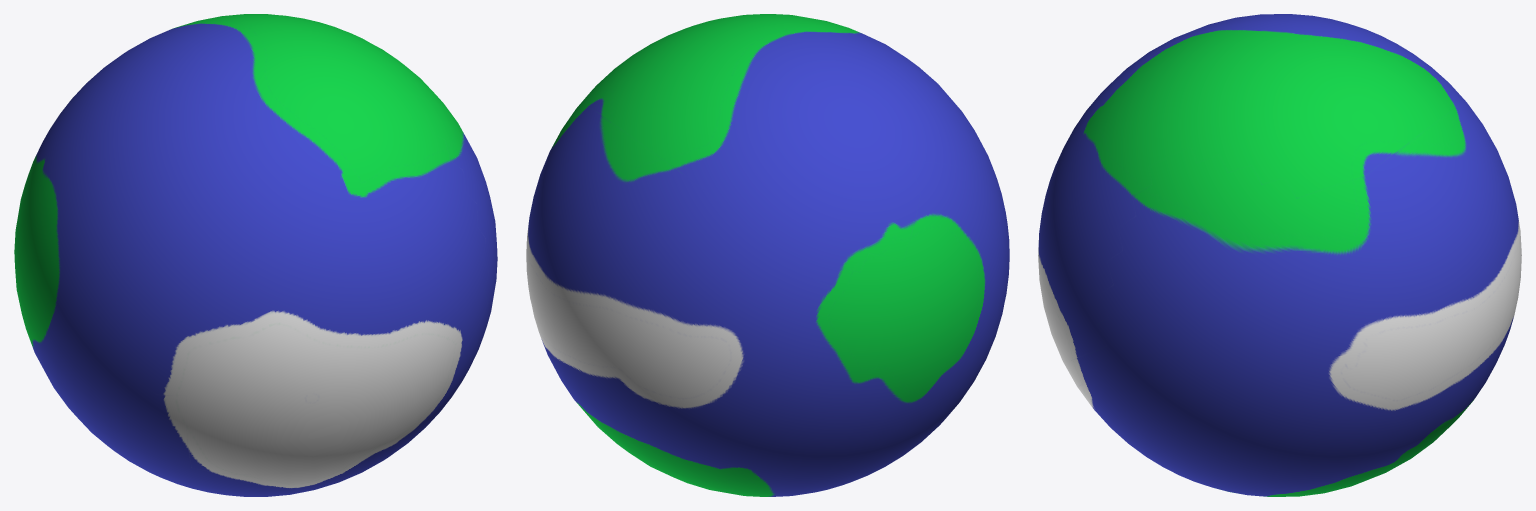
File: dog.glb
The picture shows the model from 3 angles, left to right: view 1: azimuth 30°, elevation 25°; view 2: azimuth 150°, elevation 25°; view 3: azimuth 270°, elevation 25°; orthographic projection.
Parts seen in each view (by area): view 1: mesh_id47; view 2: mesh_id47; view 3: mesh_id47.
Boxes of the visible parts, x1,y1,x2,y2 form: mesh_id47: (14, 14, 497, 496); mesh_id47: (526, 14, 1009, 496); mesh_id47: (1038, 14, 1521, 496).
Bounding box in the file's own units: 2.97 × 2.97 × 2.97.
1 material, 1 textured.
